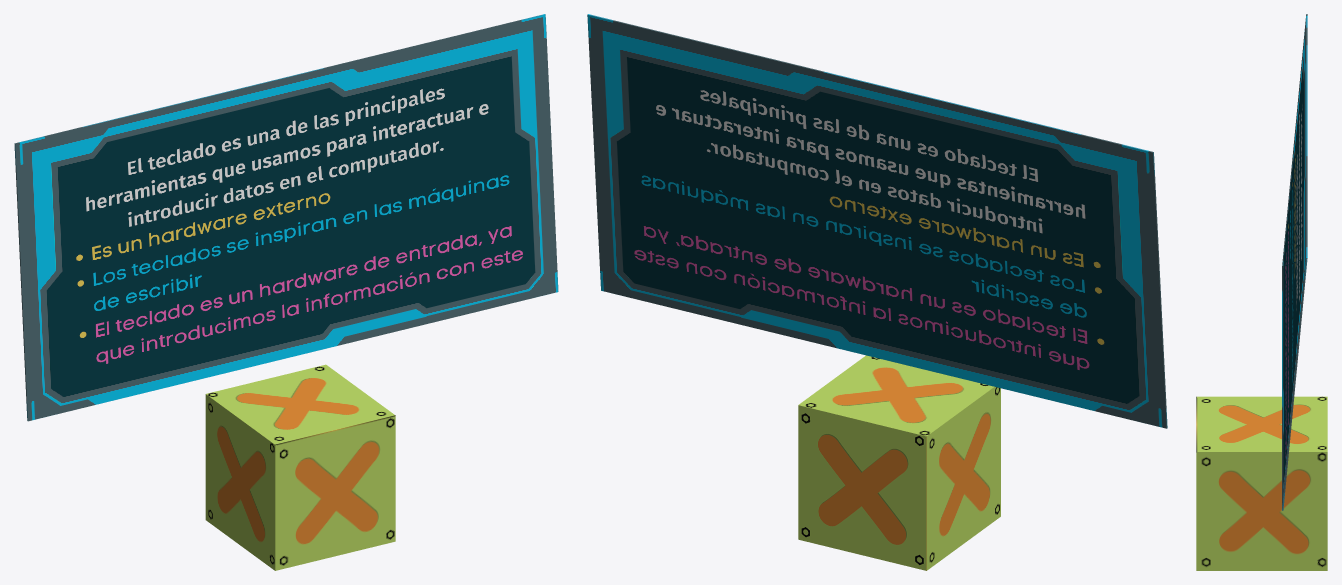
Rendered from teclado-aux.glb.
The picture shows the model from 3 angles, left to right: view 1: azimuth 30°, elevation 25°; view 2: azimuth 150°, elevation 25°; view 3: azimuth 270°, elevation 25°; orthographic projection. The views are drawn at different scales.
Visible parts, largest first — view 1: Plane, Cube; view 2: Plane, Cube; view 3: Cube, Plane.
Part boxes in pixels (<box>): Plane: <box>14,14,558,421</box>; Cube: <box>205,364,395,570</box>; Plane: <box>587,14,1167,428</box>; Cube: <box>798,355,1000,570</box>; Cube: <box>1196,396,1327,570</box>; Plane: <box>1282,14,1307,510</box>.
Size of the model in its own units: 8.81 by 6.88 by 2.
2 materials, 2 textured.
